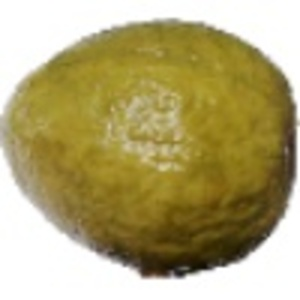goiaba: (3, 14, 297, 283)
